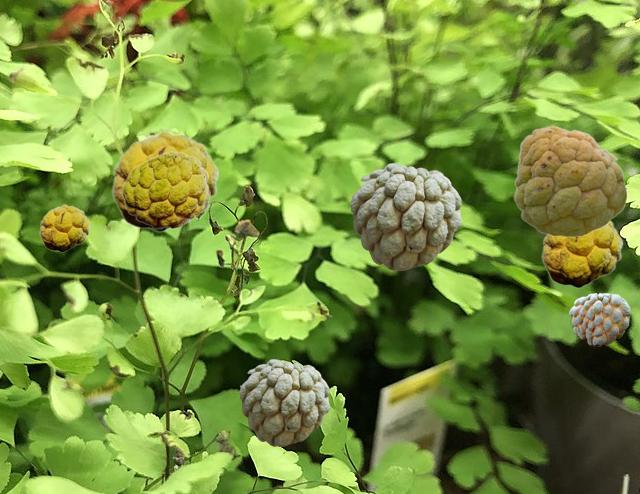atis: (513, 125, 626, 236), (350, 163, 460, 269), (111, 130, 218, 231), (239, 359, 328, 445), (121, 151, 208, 228), (541, 220, 622, 287), (569, 293, 629, 345), (39, 204, 89, 251)
